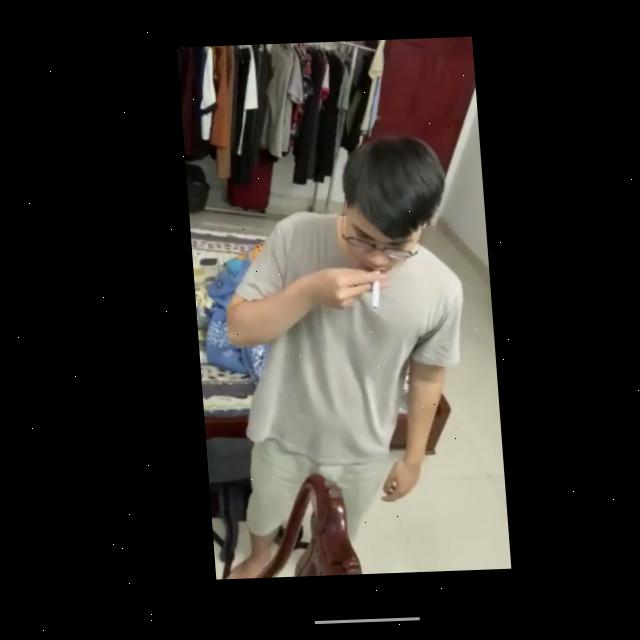cigarette: (362, 273, 377, 315)
